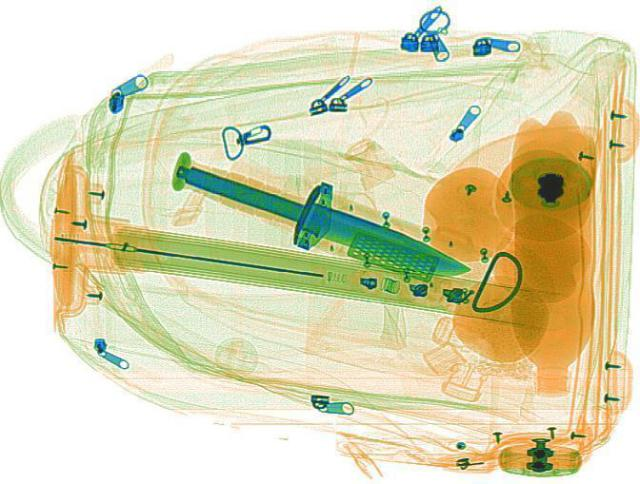Knife: (172, 157, 478, 283)
